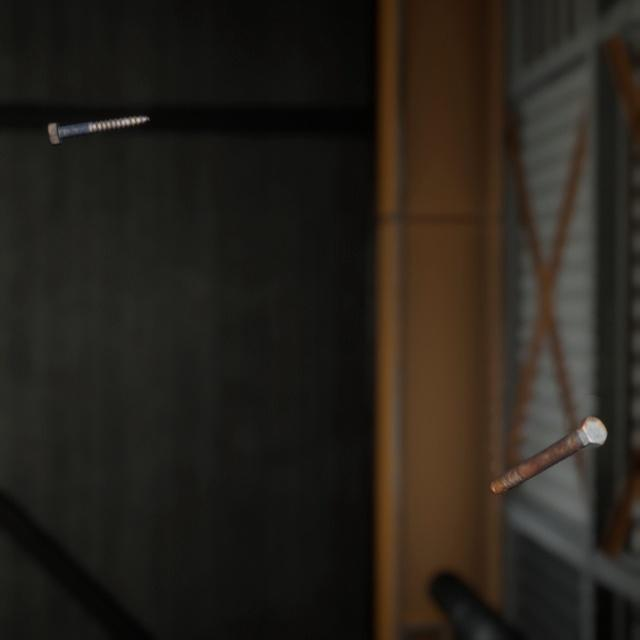bolt: (485, 390, 611, 479), (43, 99, 154, 137)
